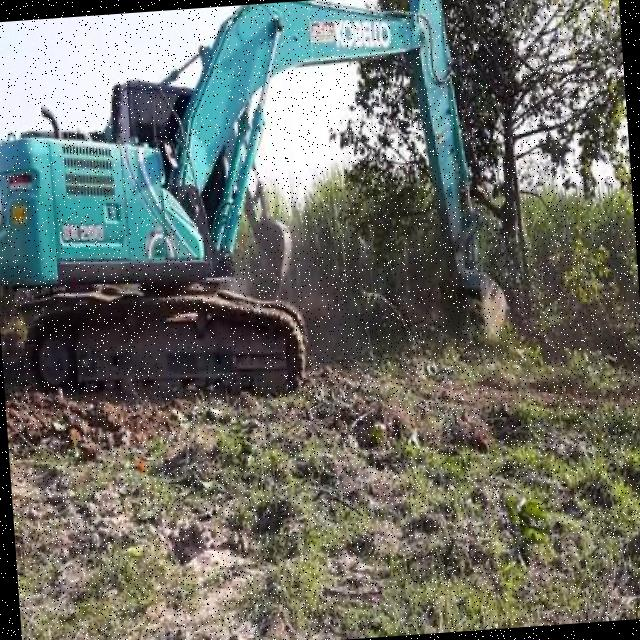Excavator: (0, 0, 520, 414)
